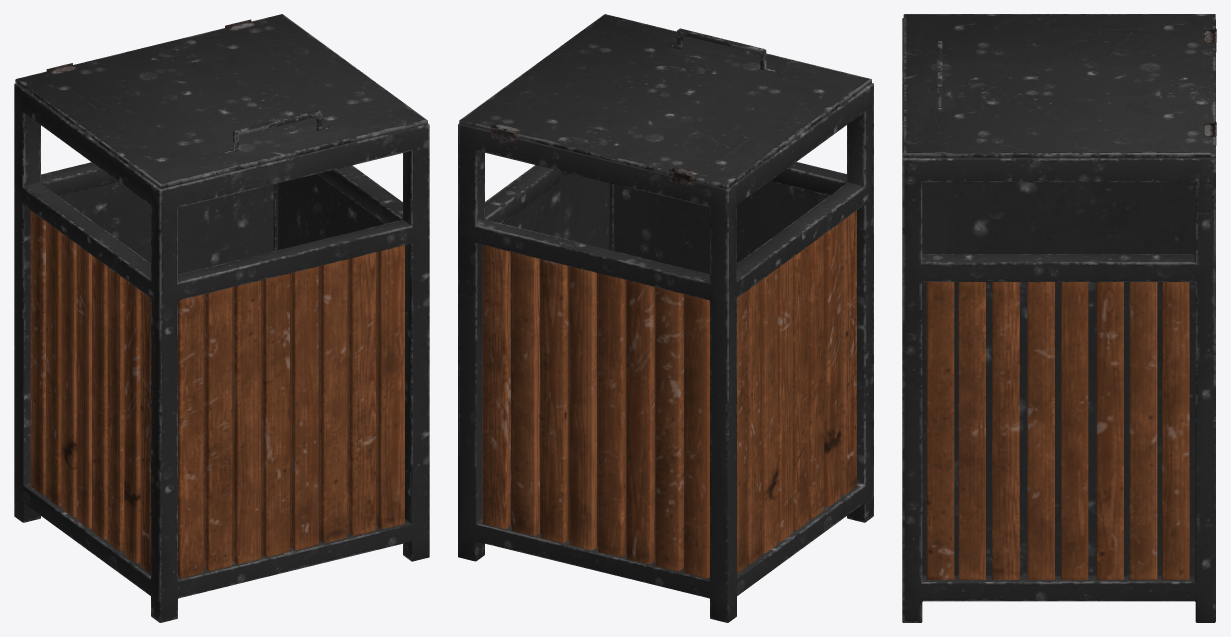
File: street_bin.fbx
3 views of the same model, side by side, from view 1: azimuth 30°, elevation 25°; view 2: azimuth 150°, elevation 25°; view 3: azimuth 270°, elevation 25° (orthographic). The views are drawn at different scales.
Parts seen in each view (by area): view 1: street_bin; view 2: street_bin; view 3: street_bin.
Boxes of the visible parts, <box> form: street_bin: <box>14,14,429,622</box>; street_bin: <box>458,14,873,622</box>; street_bin: <box>902,14,1216,622</box>.
Bounding box in the file's own units: 1.23 × 1.98 × 1.15.
4 materials, 4 textured.
